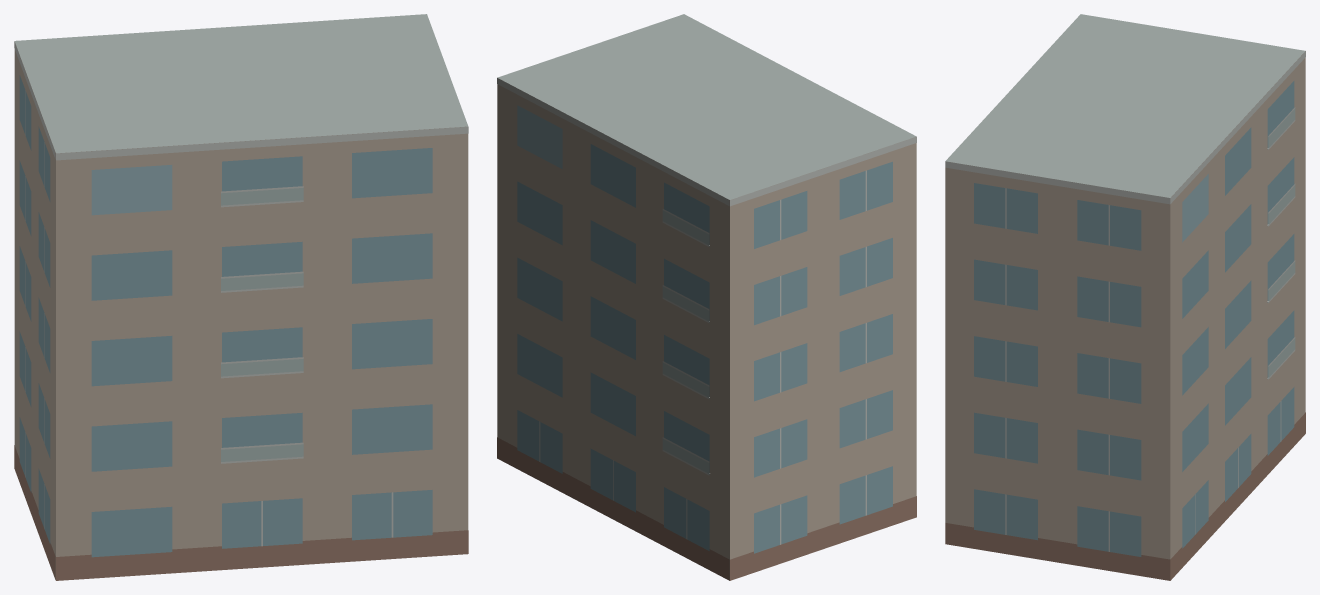
File: survey-upis-32880886.glb
3 renders of one model, left to right at view 1: azimuth 30°, elevation 25°; view 2: azimuth 150°, elevation 25°; view 3: azimuth 270°, elevation 25°, orthographic. The views are drawn at different scales.
Parts seen in each view (by area): view 1: survey-upis-32880886.tmp; view 2: survey-upis-32880886.tmp; view 3: survey-upis-32880886.tmp.
Part boxes in pixels (left/top/right/bottom): survey-upis-32880886.tmp: left=14, top=14, right=468, bottom=580; survey-upis-32880886.tmp: left=497, top=14, right=916, bottom=580; survey-upis-32880886.tmp: left=945, top=14, right=1305, bottom=580.
Size of the model in its own units: 15.22 by 14.75 by 12.6.
